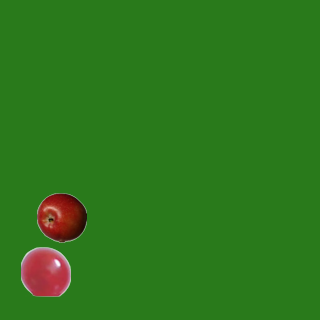Apple Braeburn: (36, 192, 86, 242)
Redcurrant: (20, 246, 70, 296)
